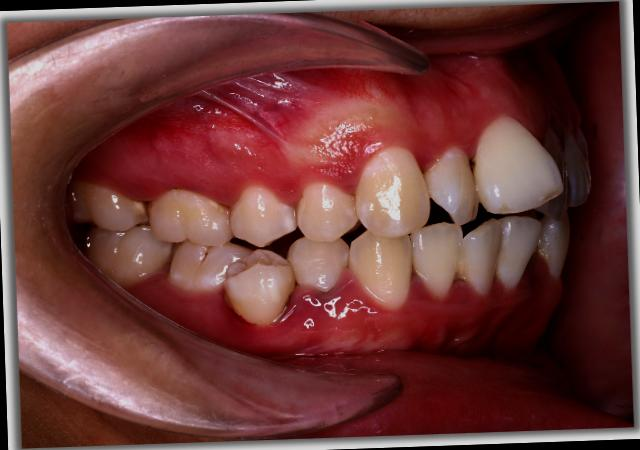canine class II 1/2: (284, 135, 434, 315)
molar class I: (144, 180, 255, 300)
